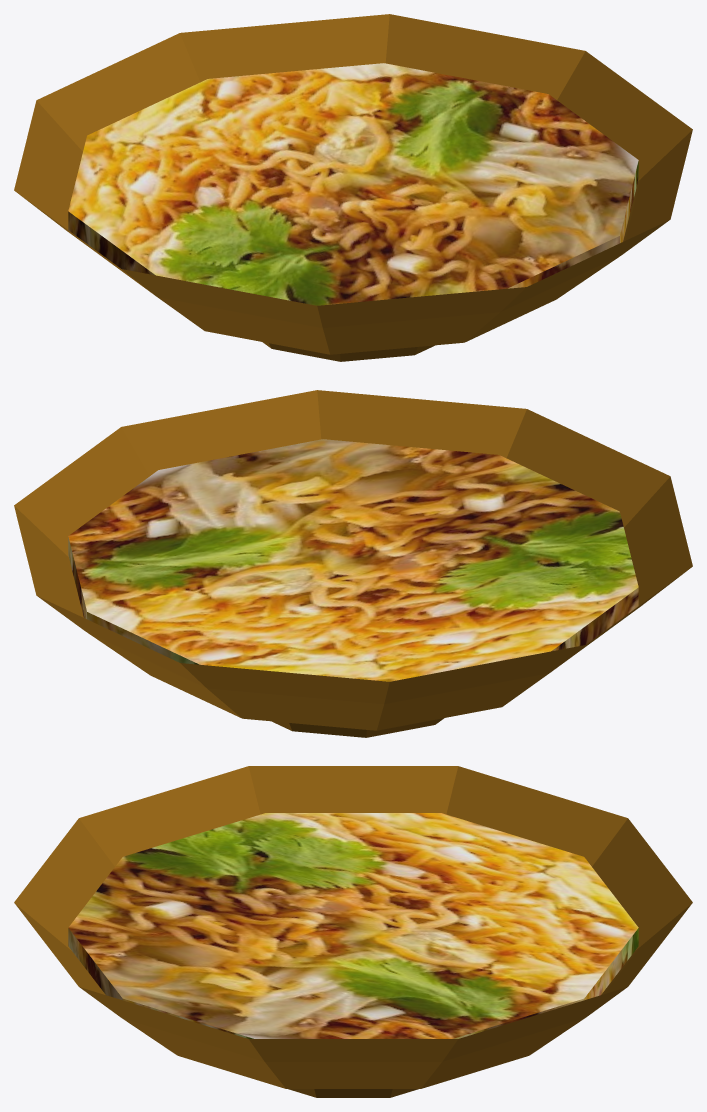
The model's file is mangkok+mie.fbx.
3 renders of one model, top to bottom at view 1: azimuth 30°, elevation 25°; view 2: azimuth 150°, elevation 25°; view 3: azimuth 270°, elevation 25°, orthographic. The views are drawn at different scales.
Visible parts, largest first — view 1: isi mie, mangkok; view 2: isi mie, mangkok; view 3: isi mie, mangkok.
Part boxes in pixels (x1,y1,x2,y2): isi mie: (68,63,638,305); mangkok: (14,14,692,361); isi mie: (68,439,638,681); mangkok: (14,390,692,737); isi mie: (68,813,638,1038); mangkok: (14,766,692,1097).
Bounding box in the file's own units: 540 × 136 × 568.
